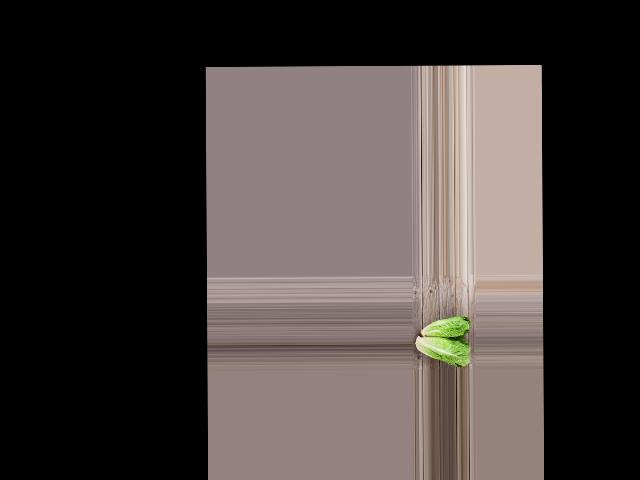lettuce: (412, 335, 472, 368)
